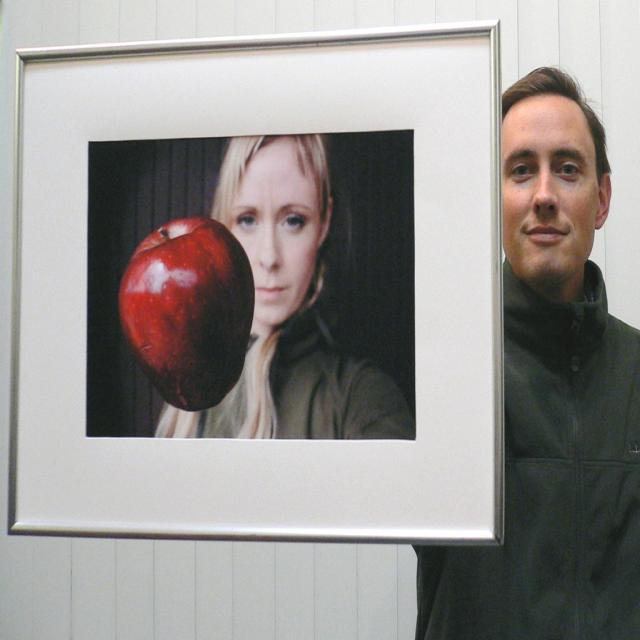Healty Apple: (114, 200, 250, 402)
